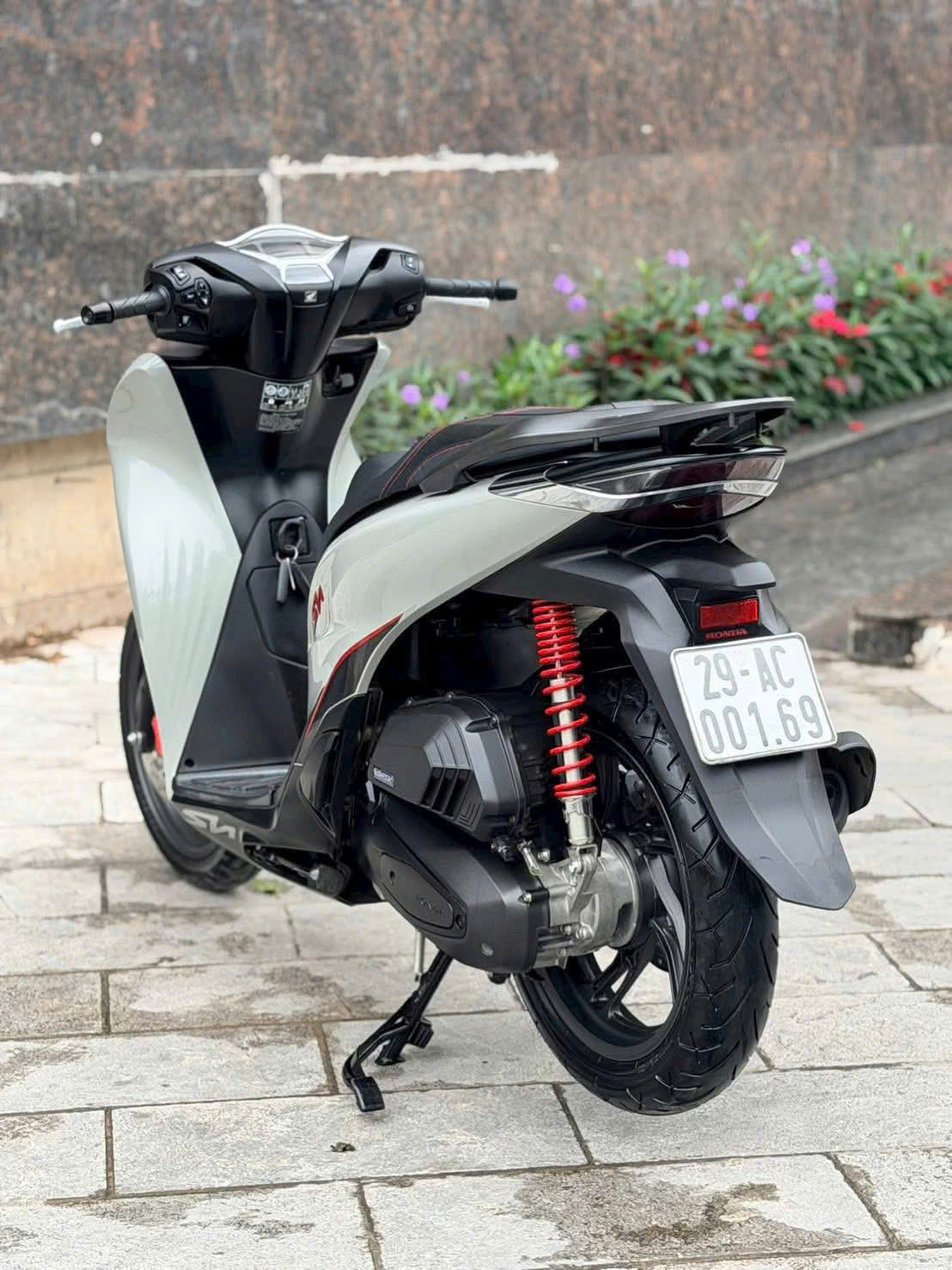Bien-so: (670, 627, 847, 767)
